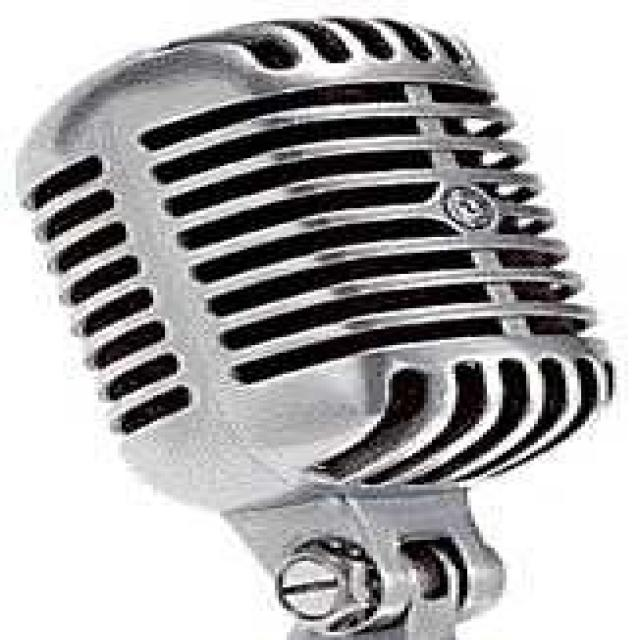microphone: (17, 16, 607, 509)
